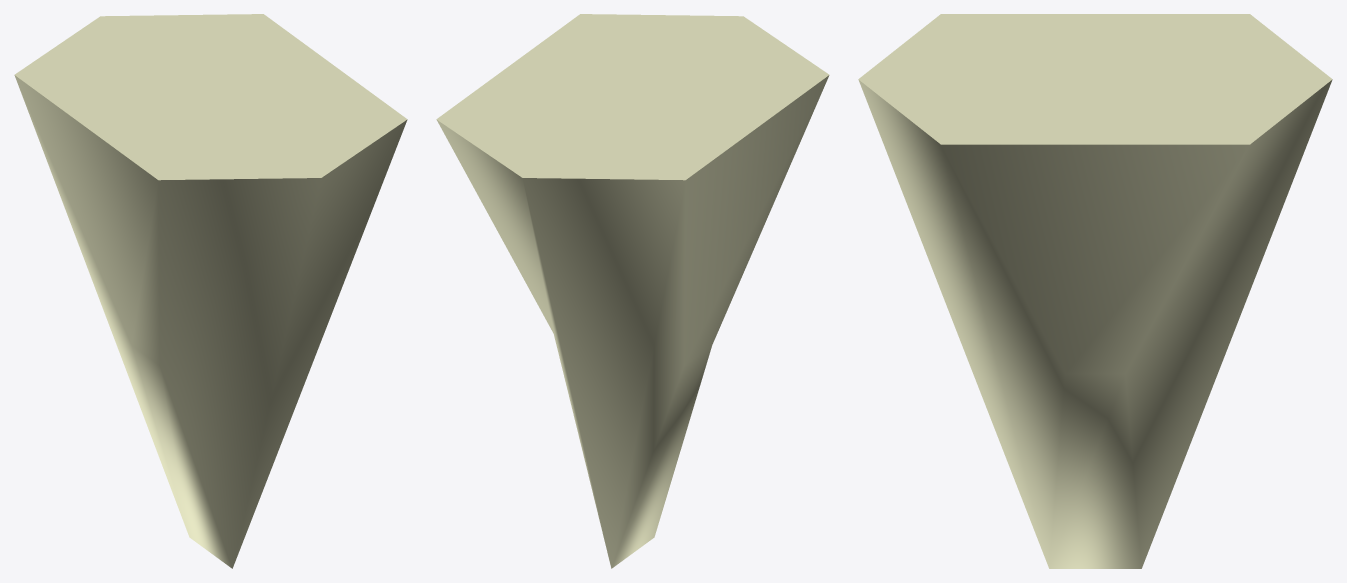
File: CrocTooth.fbx
3 renders of one model, left to right at view 1: azimuth 30°, elevation 25°; view 2: azimuth 150°, elevation 25°; view 3: azimuth 270°, elevation 25°, orthographic. The views are drawn at different scales.
Visible parts, largest first — view 1: CrocTooth; view 2: CrocTooth; view 3: CrocTooth.
Part boxes in pixels (bbox=[...]): CrocTooth: bbox=[14, 14, 407, 568]; CrocTooth: bbox=[436, 14, 829, 568]; CrocTooth: bbox=[858, 14, 1332, 568].
Size of the model in its own units: 0.2253 by 0.3939 by 0.3459.
